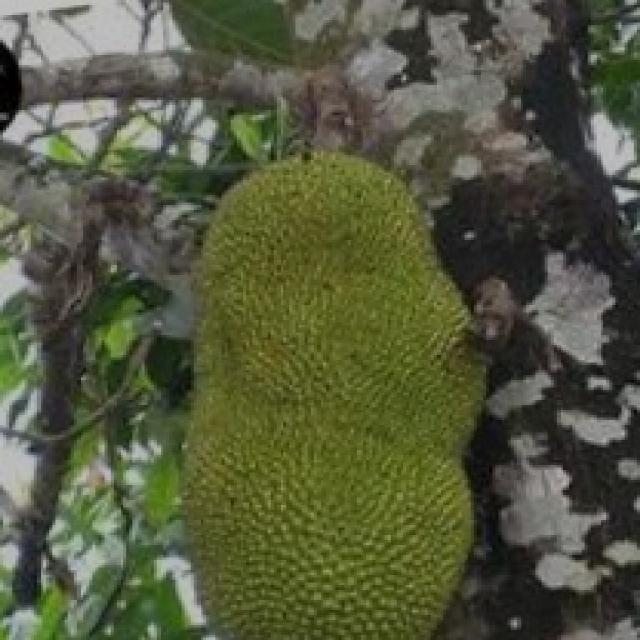Fruit: (142, 240, 542, 640)
